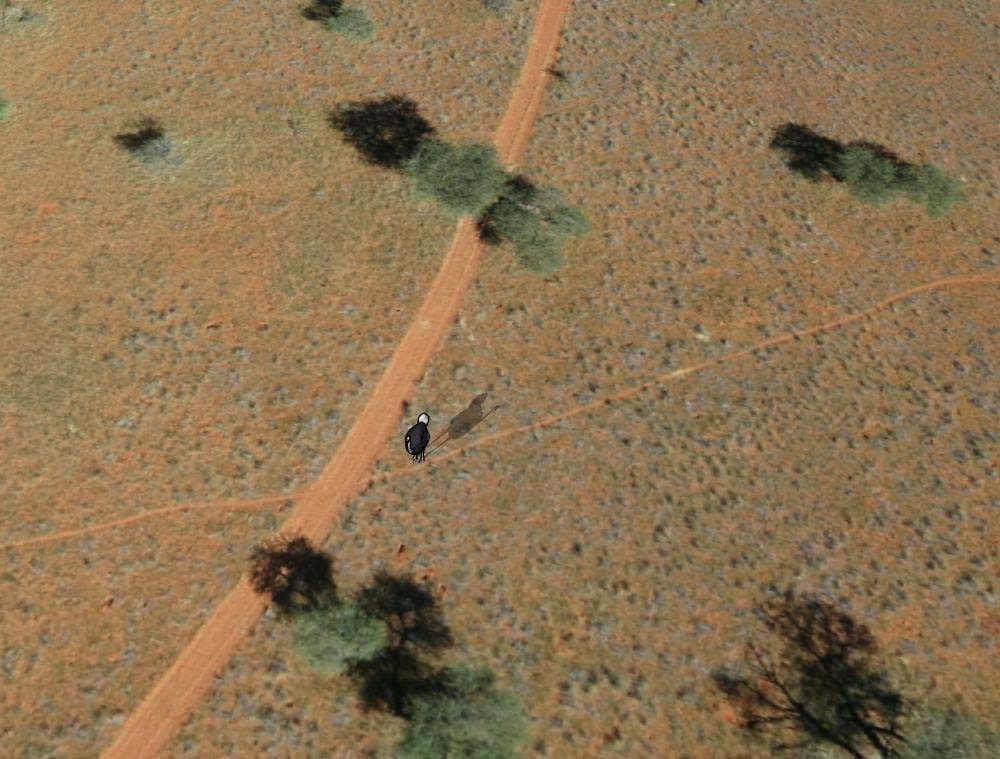ostrich: (396, 411, 443, 464)
